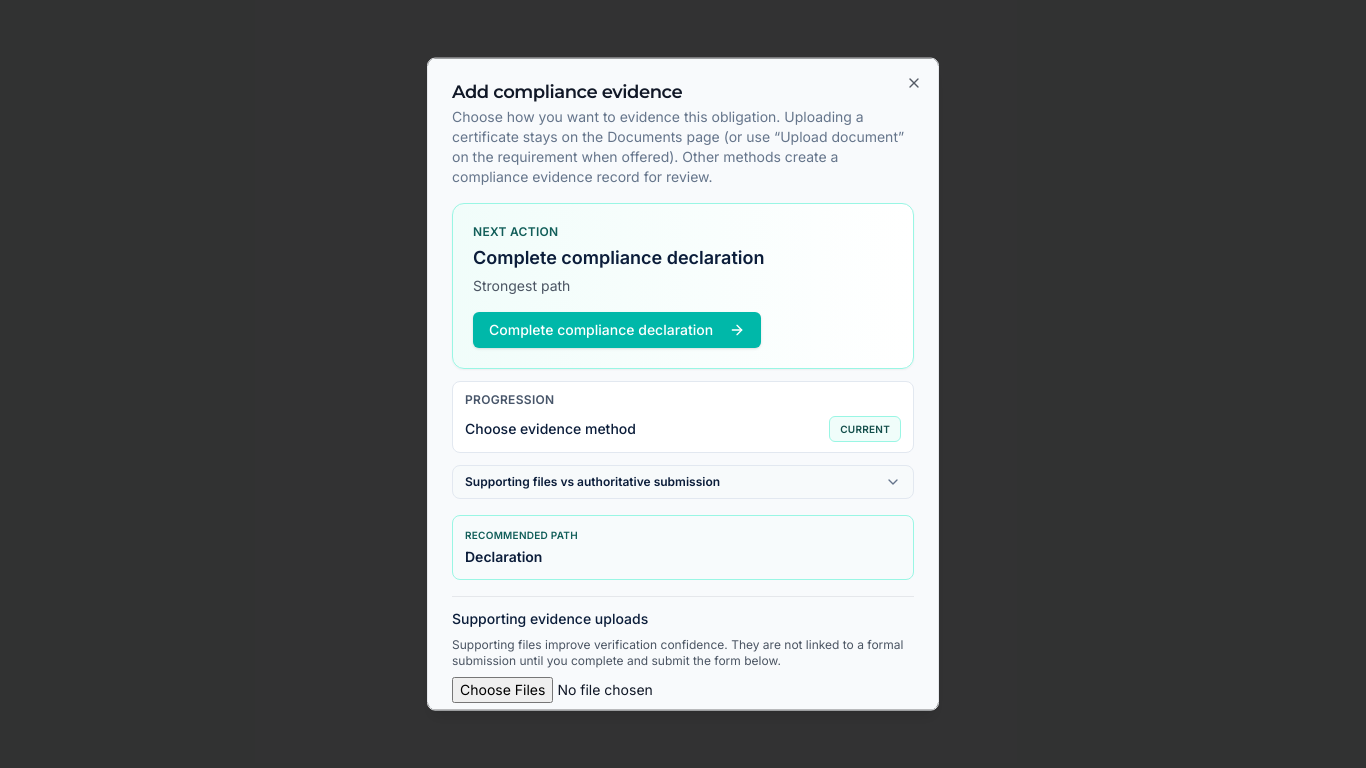
Test: ComplianceEvidenceResolveModal TRUST-01 › post-submit summary uses authoritative evidence_record payload
Later steps or results of the test are not shown.
Expected: the text "Declaration" is shown, left=465, top=548, right=542, bottom=565
Click the button with test id "guided-evidence-mode-STRUCTURED_DECLARATION": {"x": 521, "y": 535} left=452, top=515, right=914, bottom=580
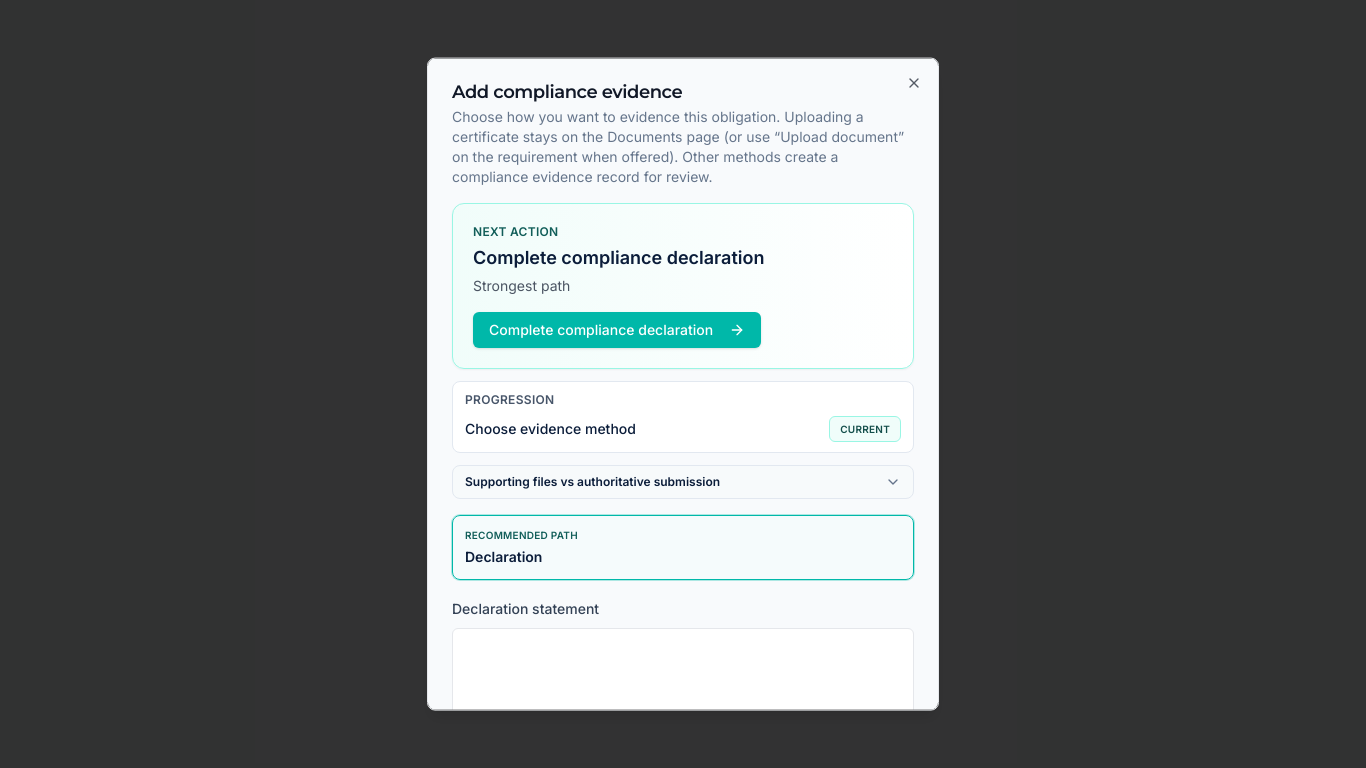
In the text box: {"x": 683, "y": 678} left=452, top=628, right=914, bottom=728, type "Authoritative saved declaration"
(page scrolled)
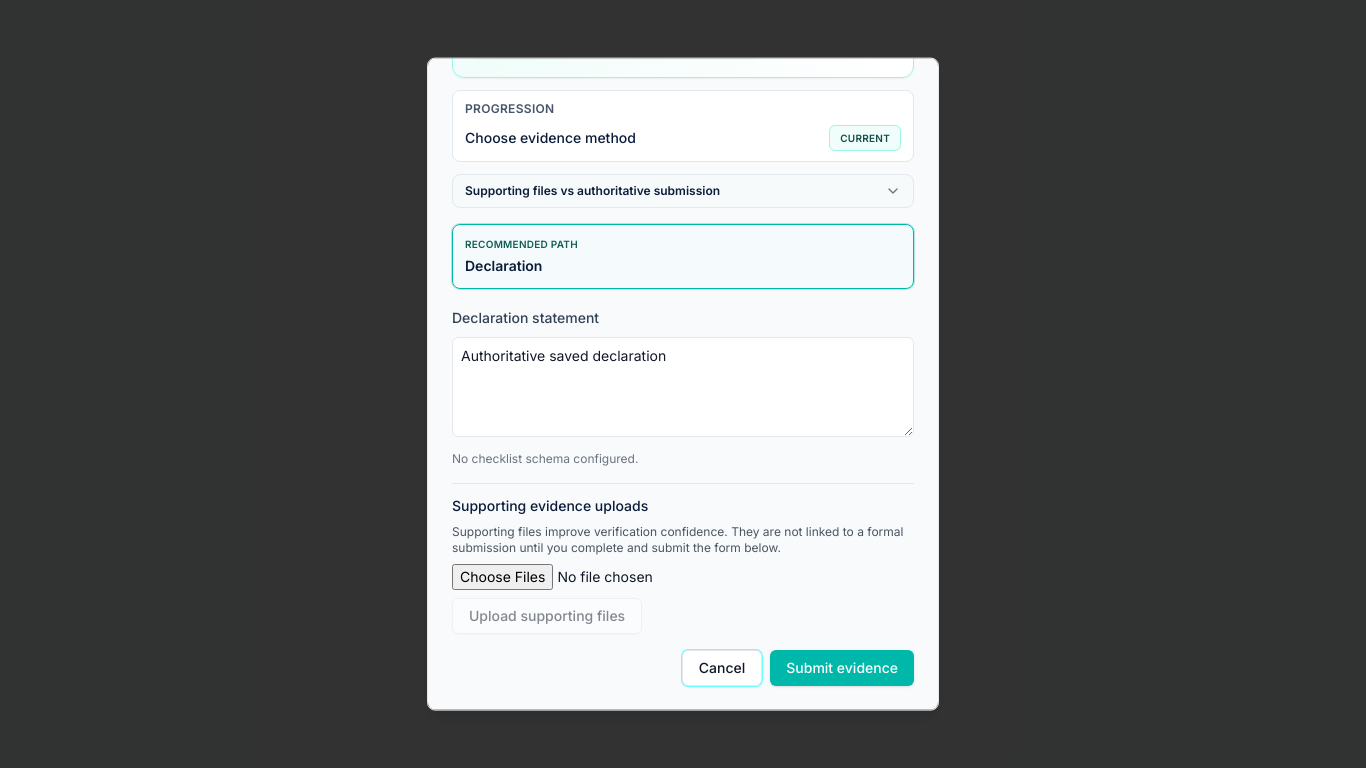
Click the button "Submit evidence": {"x": 842, "y": 668} left=770, top=650, right=914, bottom=686
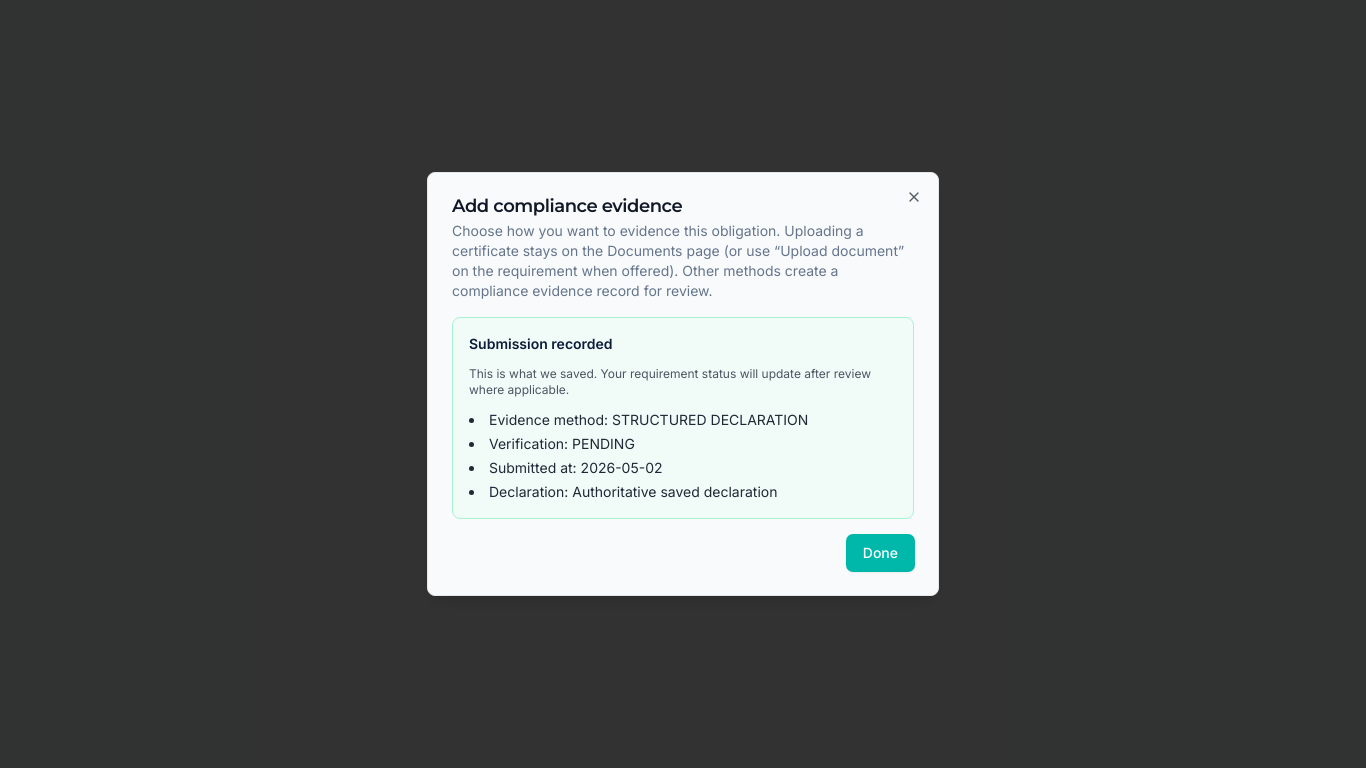
Now the element with test id "compliance-evidence-submit-summary" is shown, box left=452, top=317, right=914, bottom=519
Now the list item "Declaration: Authoritative saved declaration" is shown, box left=489, top=483, right=778, bottom=500
